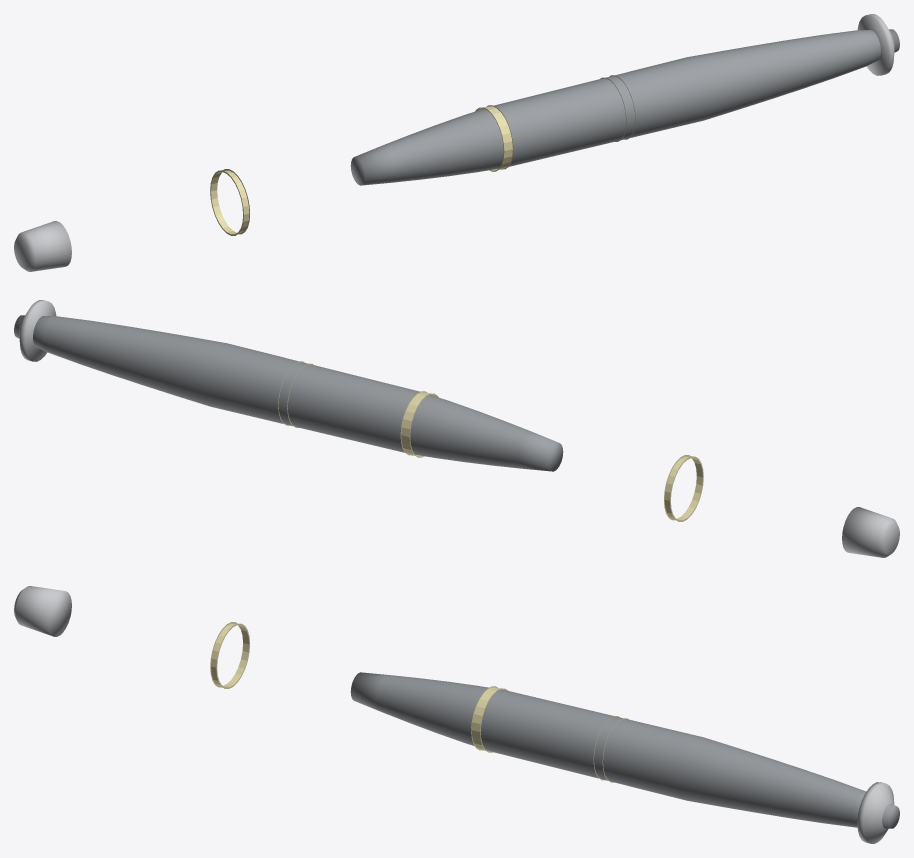
Rendered from RU_TORP_Shkval_LOD1.fbx.
3 renders of one model, top to bottom at view 1: azimuth 30°, elevation 25°; view 2: azimuth 150°, elevation 25°; view 3: azimuth 330°, elevation 25°, orthographic.
Parts seen in each view (by area): view 1: WPN_RU_TORP_Shkval_LOD1_Body, WPN_RU_TORP_Shkval_LOD1_Propulsor, WPN_RU_TORP_Shkval_LOD1_Marking, WPN_RU_TORP_Shkval_LOD1_Nose; view 2: WPN_RU_TORP_Shkval_LOD1_Body, WPN_RU_TORP_Shkval_LOD1_Propulsor, WPN_RU_TORP_Shkval_LOD1_Marking, WPN_RU_TORP_Shkval_LOD1_Nose; view 3: WPN_RU_TORP_Shkval_LOD1_Body, WPN_RU_TORP_Shkval_LOD1_Propulsor, WPN_RU_TORP_Shkval_LOD1_Marking, WPN_RU_TORP_Shkval_LOD1_Nose.
Part boxes in pixels (<box>): WPN_RU_TORP_Shkval_LOD1_Body: <box>350,29,899,185</box>; WPN_RU_TORP_Shkval_LOD1_Propulsor: <box>14,221,71,271</box>; WPN_RU_TORP_Shkval_LOD1_Marking: <box>210,75,635,235</box>; WPN_RU_TORP_Shkval_LOD1_Nose: <box>857,14,894,75</box>; WPN_RU_TORP_Shkval_LOD1_Body: <box>14,315,563,471</box>; WPN_RU_TORP_Shkval_LOD1_Propulsor: <box>842,507,899,557</box>; WPN_RU_TORP_Shkval_LOD1_Marking: <box>278,361,703,521</box>; WPN_RU_TORP_Shkval_LOD1_Nose: <box>19,300,56,361</box>; WPN_RU_TORP_Shkval_LOD1_Body: <box>350,672,899,828</box>; WPN_RU_TORP_Shkval_LOD1_Propulsor: <box>14,586,71,636</box>; WPN_RU_TORP_Shkval_LOD1_Marking: <box>210,622,628,782</box>; WPN_RU_TORP_Shkval_LOD1_Nose: <box>857,782,894,843</box>.
Size of the model in its own units: 8.19 by 0.549 by 0.549.
